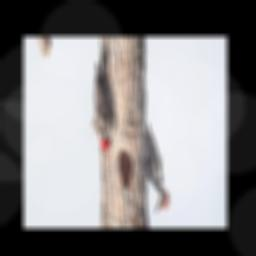Woodpecker: (144, 123, 169, 215), (94, 37, 113, 150)
